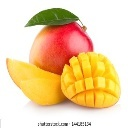mango: (28, 19, 95, 93), (61, 51, 122, 109)
